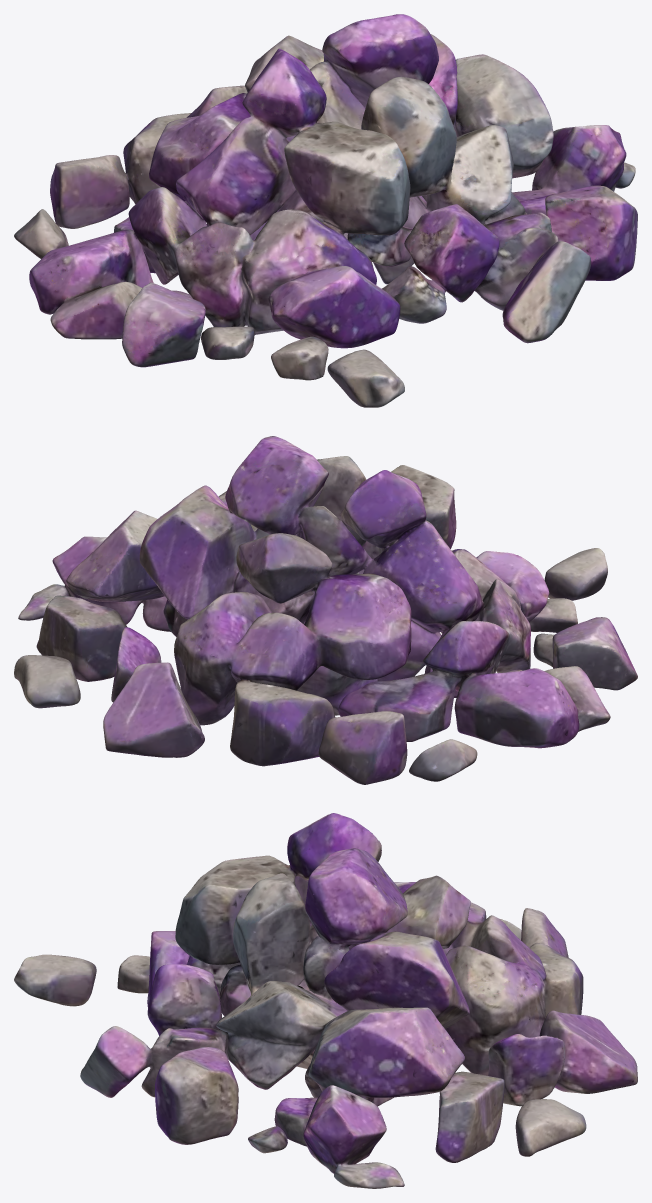
Rendered from rubble_texture.glb.
3 renders of one model, top to bottom at view 1: azimuth 30°, elevation 25°; view 2: azimuth 150°, elevation 25°; view 3: azimuth 270°, elevation 25°, orthographic. The views are drawn at different scales.
Size of the model in its own units: 1.99 by 0.7425 by 1.89.
Materials: 1 (1 with a texture image).
